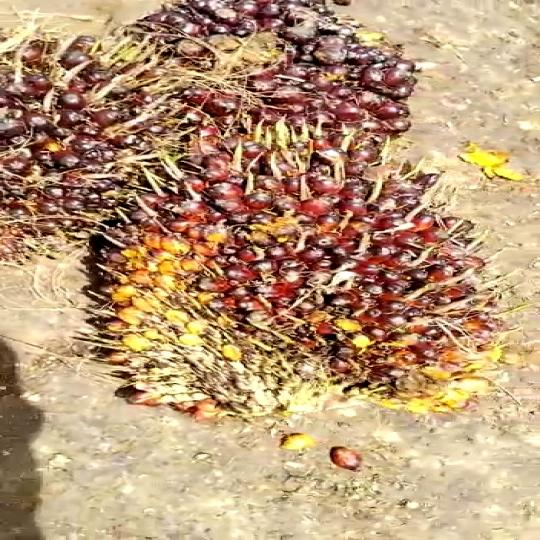kurang masak: (95, 133, 513, 416), (0, 29, 195, 267), (127, 0, 428, 135)
